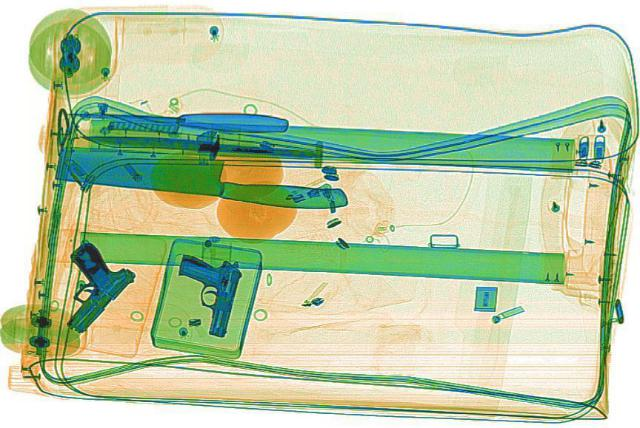Gun: (15, 238, 149, 333), (160, 250, 246, 335)
Knife: (51, 140, 355, 210), (78, 129, 316, 160), (62, 105, 288, 132)
